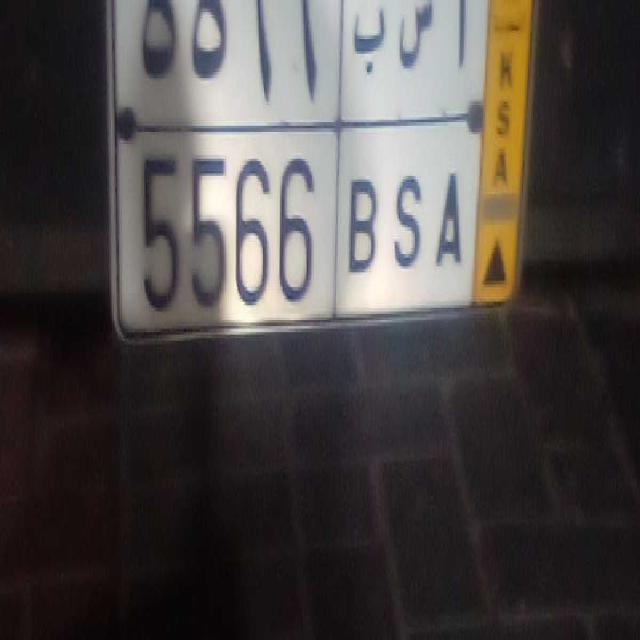license_plate: (133, 132, 475, 322)
